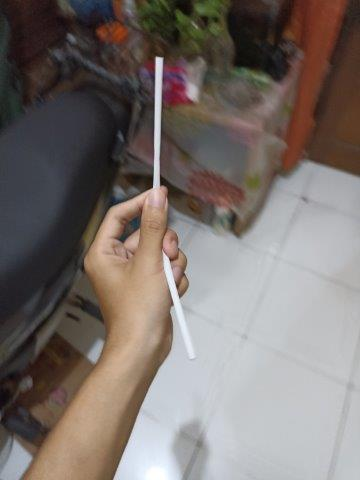sedotan: (152, 60, 195, 357)
